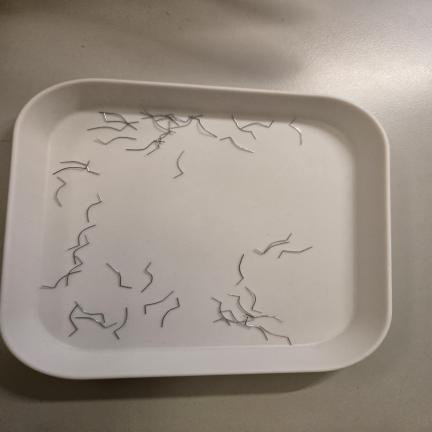probe: (68, 224, 95, 250), (144, 291, 174, 314), (107, 263, 132, 289), (161, 298, 180, 327), (220, 137, 253, 152), (113, 307, 128, 339), (278, 246, 313, 259), (245, 287, 262, 313), (289, 118, 302, 145), (141, 263, 153, 292), (173, 150, 185, 178), (96, 137, 137, 145), (86, 202, 99, 223), (237, 254, 244, 284), (56, 182, 66, 199), (98, 193, 102, 202), (57, 176, 63, 181)
